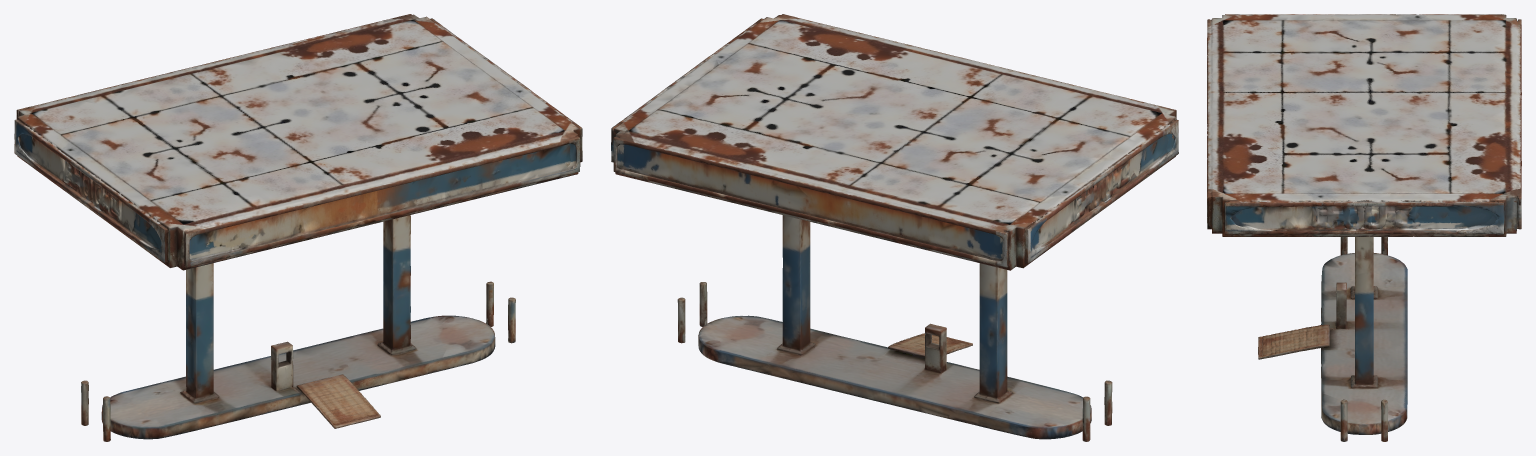
Rendered from servo_canopy.glb.
3 renders of one model, left to right at view 1: azimuth 30°, elevation 25°; view 2: azimuth 150°, elevation 25°; view 3: azimuth 270°, elevation 25°, orthographic. The views are drawn at different scales.
Size of the model in its own units: 10.5 by 6.28 by 7.38.
Materials: 1 (1 with a texture image).
